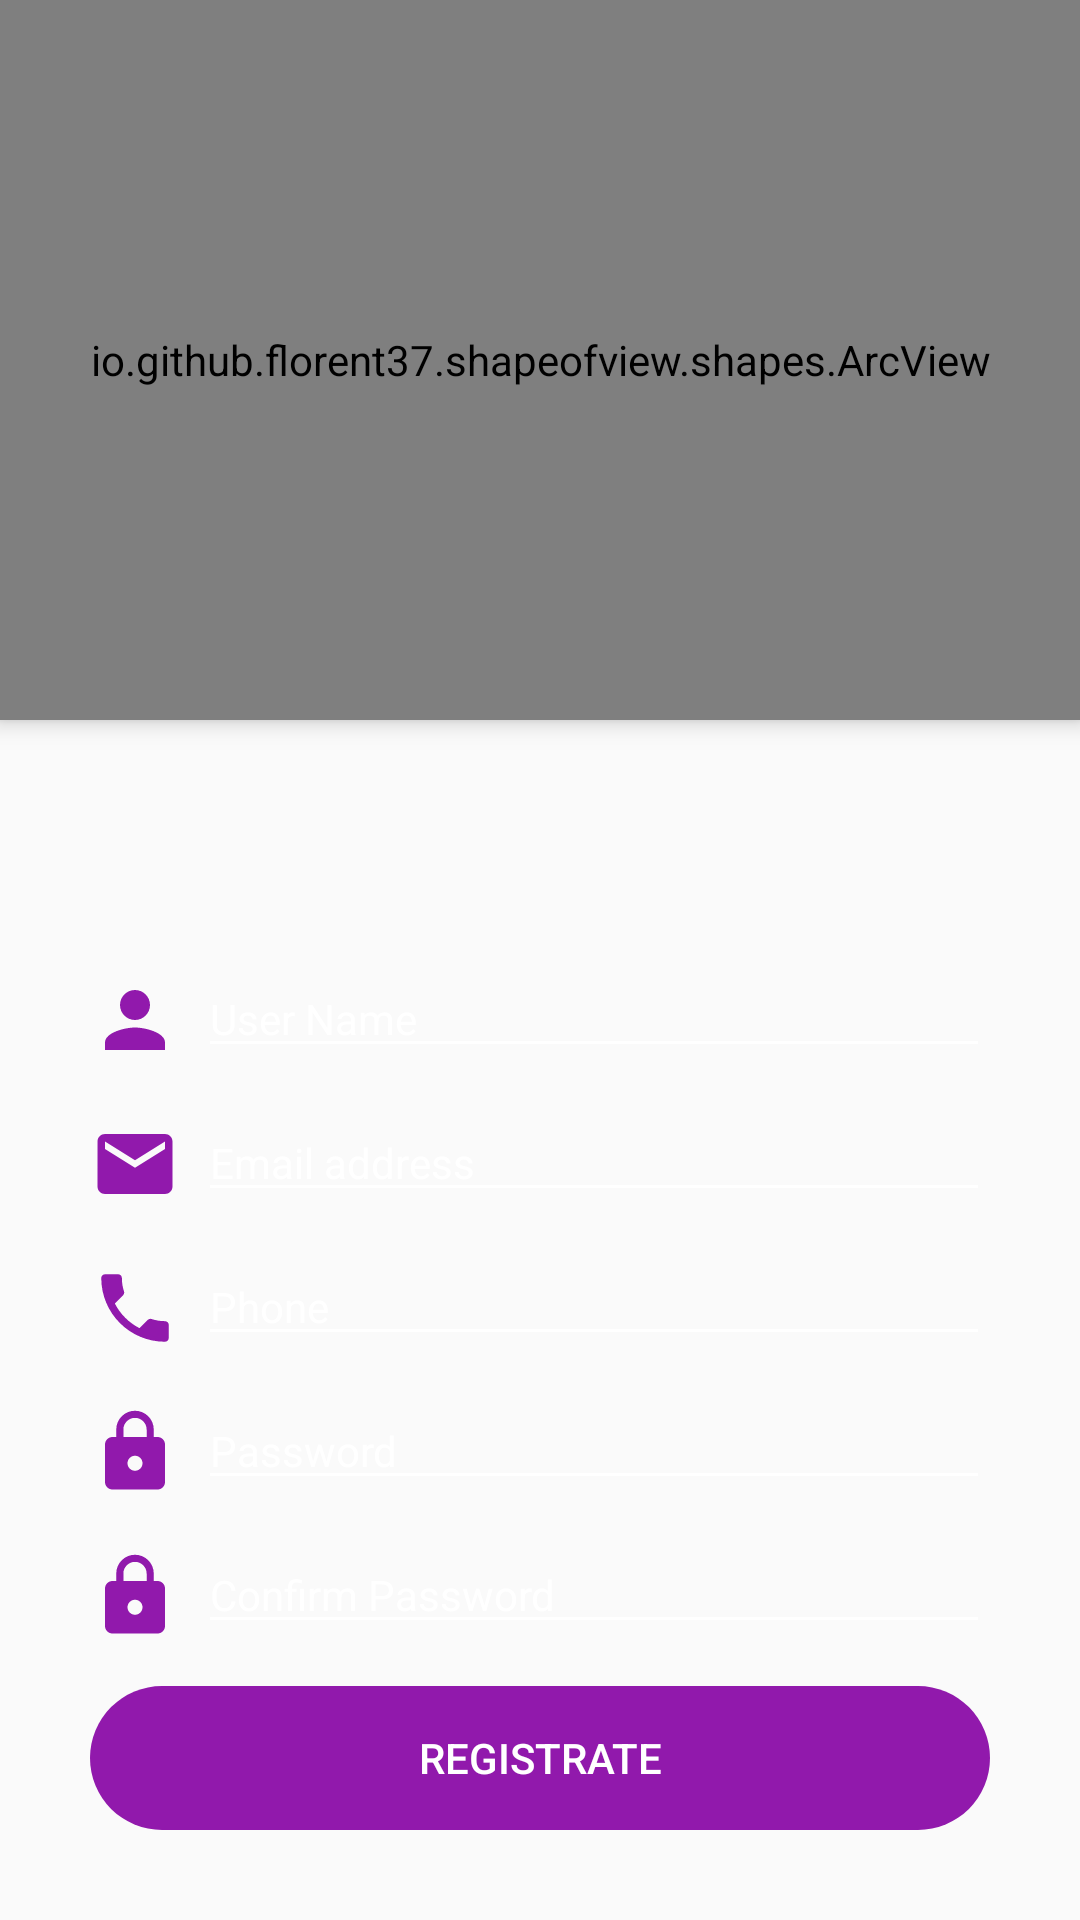

Point at icon controls on the screen. Image size 1080 x 1920, points as (x=x, y=y).
person user: (x=135, y=1020)
